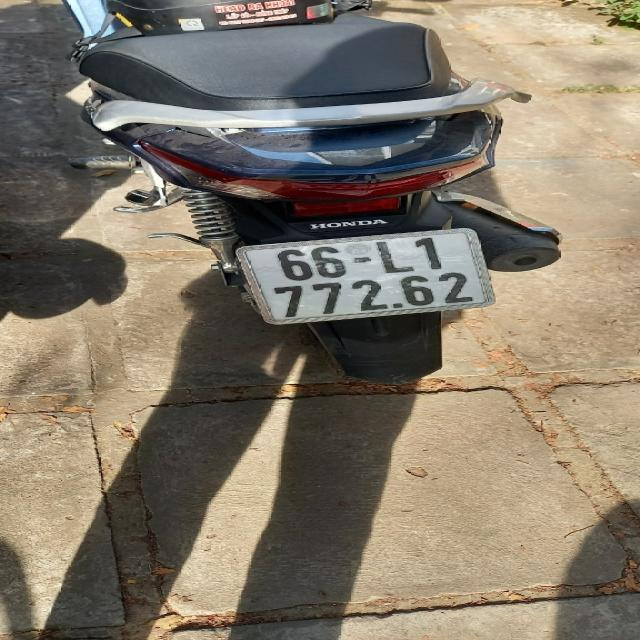1: (415, 237, 444, 270)
2: (348, 279, 388, 311), (439, 272, 473, 303)
6: (312, 246, 346, 278), (399, 275, 433, 306), (278, 250, 313, 280)
7: (272, 285, 304, 318), (311, 282, 339, 314)
L: (376, 242, 414, 273)
